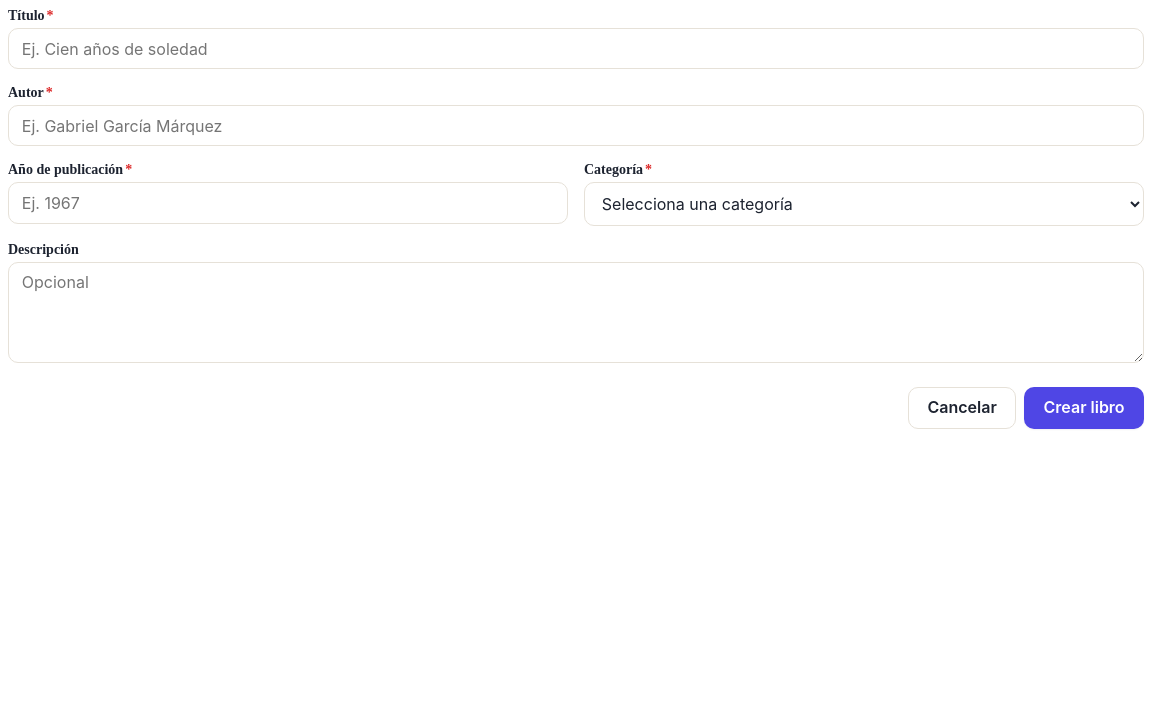
Test case: BookForm › shows the client validation errors and does not submit
Type "ab" into the field labelled "Título*".
click(576, 49); type("ab")  # box [8, 28, 1144, 69]
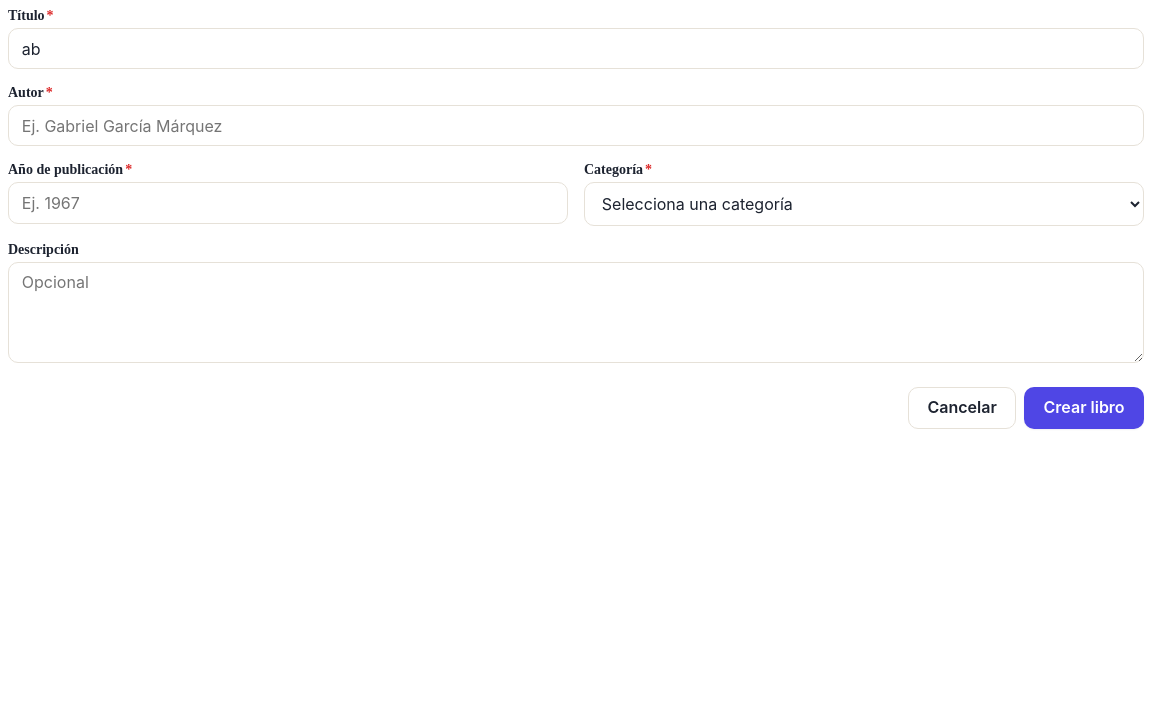
Click the button "Crear libro".
click(1084, 408)  # box [1024, 387, 1144, 429]
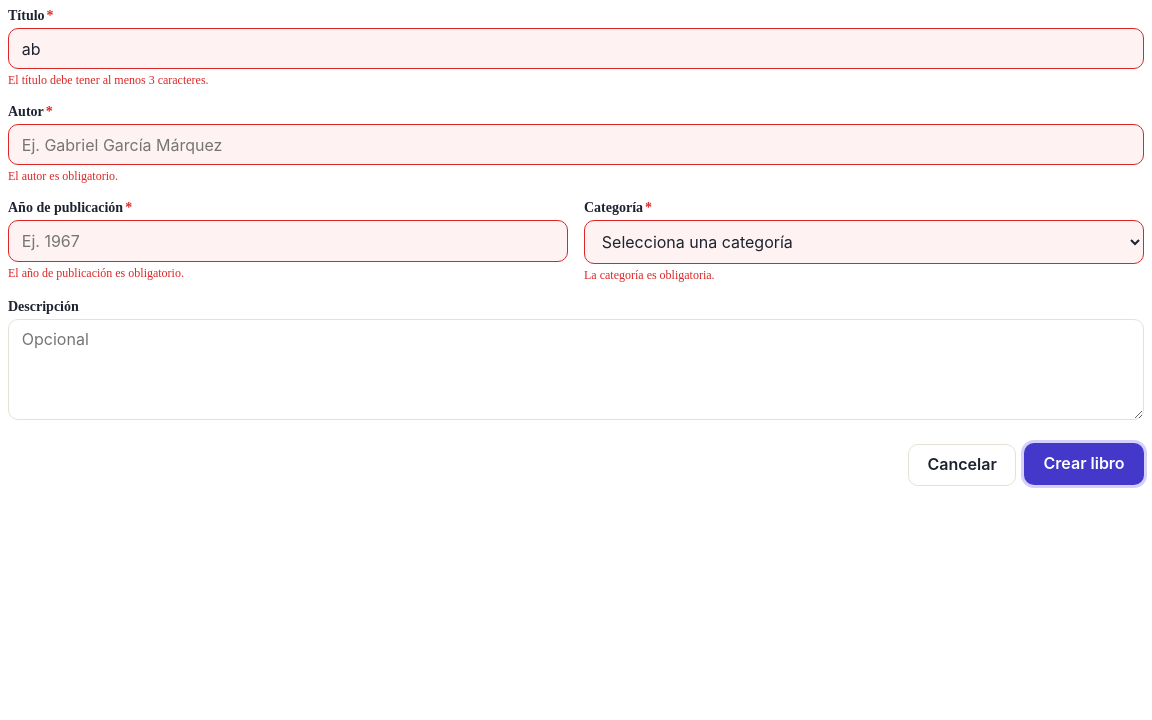
expect the text "El título debe tener al menos 3 caracteres." is shown: met, box [8, 73, 209, 87]
expect the text "El autor es obligatorio." is shown: met, box [8, 169, 118, 183]
